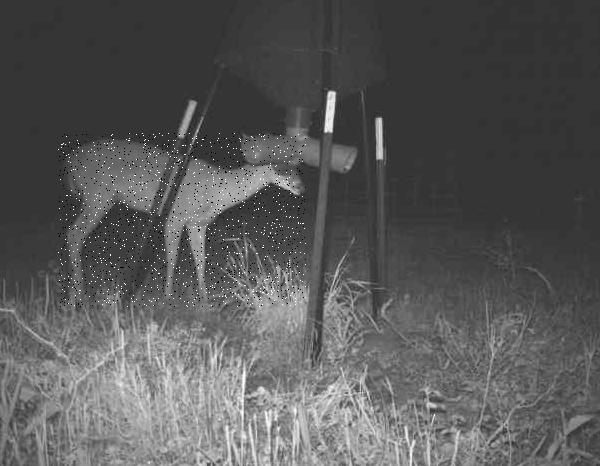Deer: (58, 133, 306, 307)
